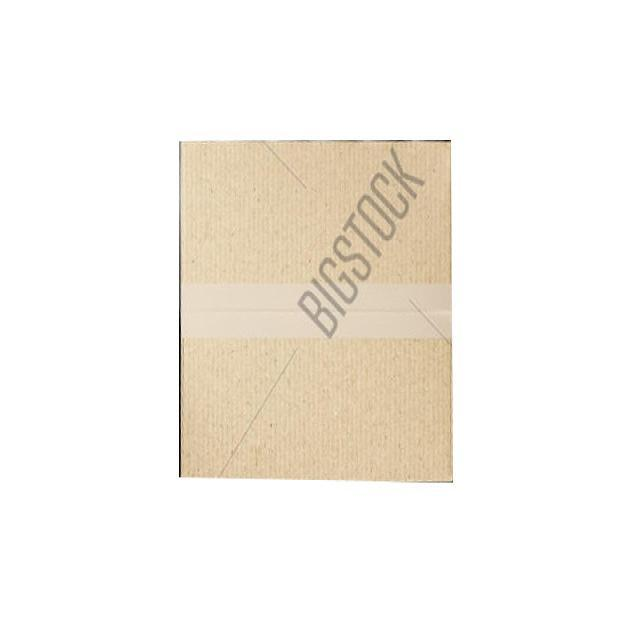Cardboard: (178, 144, 450, 480)
